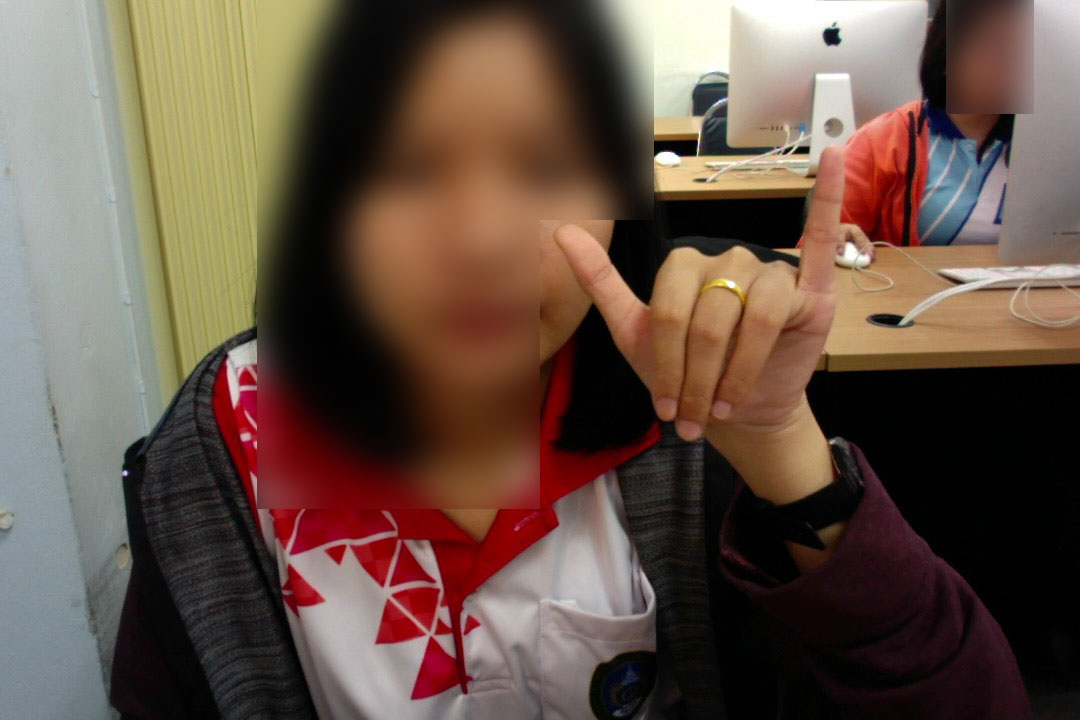yor: (549, 141, 857, 446)
